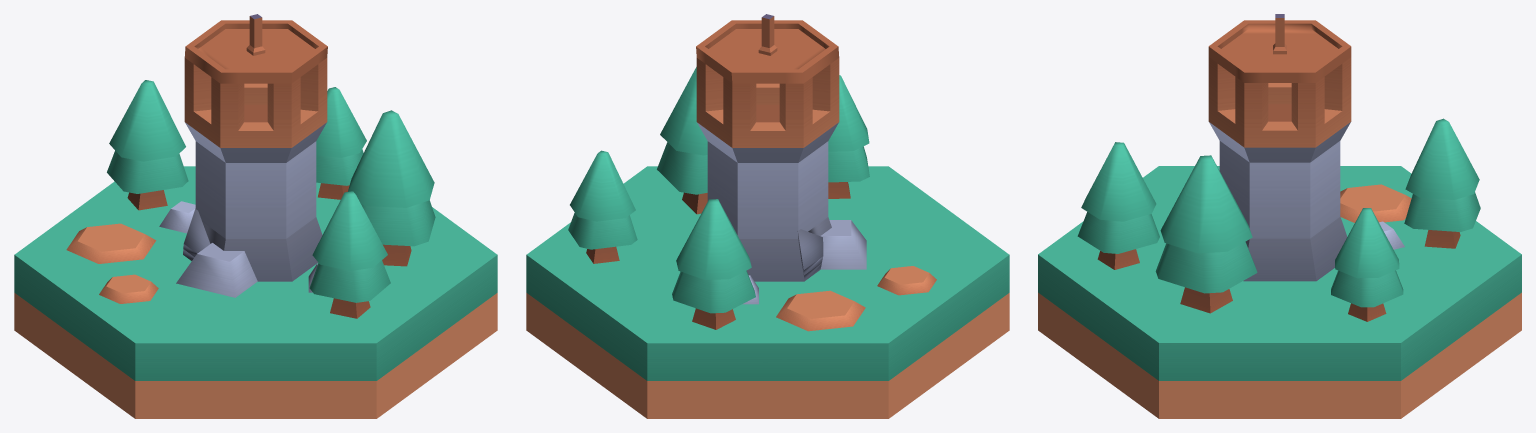
File: ArrowTower.fbx
3 renders of one model, left to right at view 1: azimuth 30°, elevation 25°; view 2: azimuth 150°, elevation 25°; view 3: azimuth 270°, elevation 25°, orthographic.
Visible parts, largest first — view 1: building_tower.New; view 2: building_tower.New; view 3: building_tower.New.
Part boxes in pixels (x1,y1,x2,y2): building_tower.New: [14, 14, 497, 418]; building_tower.New: [526, 14, 1009, 418]; building_tower.New: [1038, 14, 1521, 418].
Bounding box in the file's own units: 100 × 82.79 × 115.
